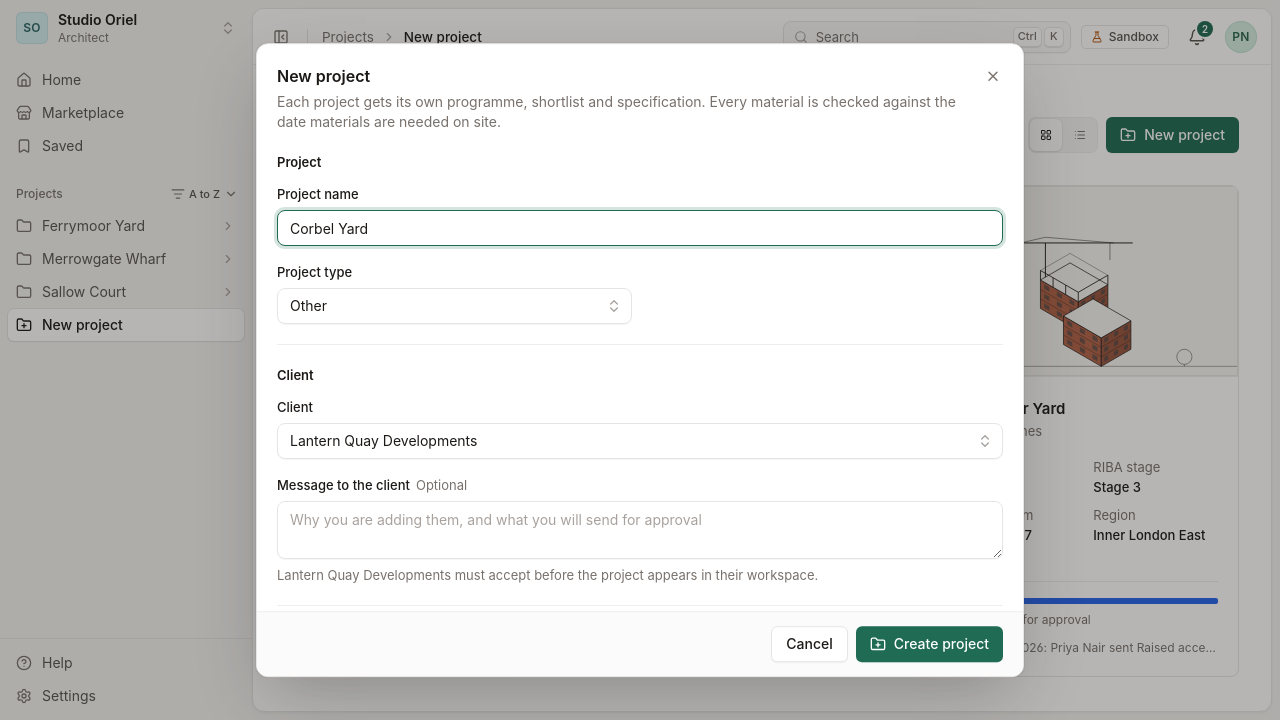
the new project dialog › creates a project that waits for the client, with the type text, message and requirements
Select "Other" in the dropdown labelled "Project type". click: [454, 306]
box: top-left (277, 288), bottom-right (632, 324)
(page scrolled)
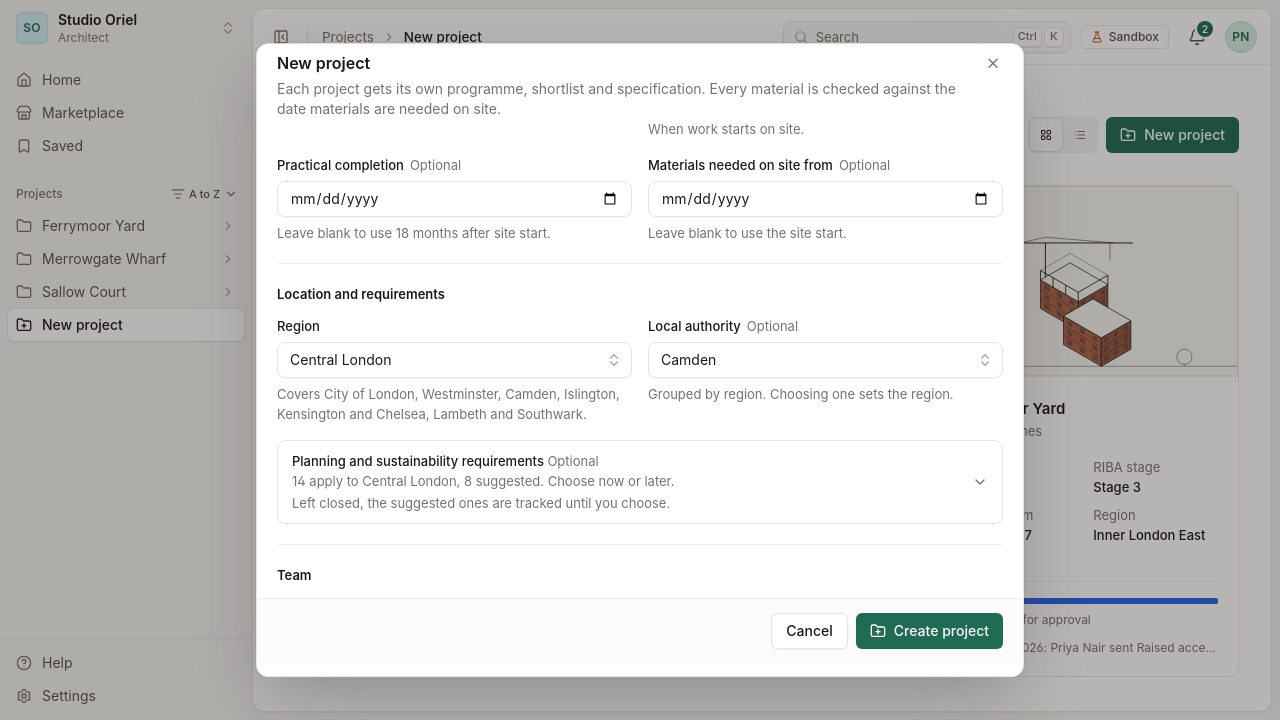
Select "Camden" in the 2nd dropdown. click: [826, 360]
box: top-left (648, 342), bottom-right (1003, 378)
(page scrolled)
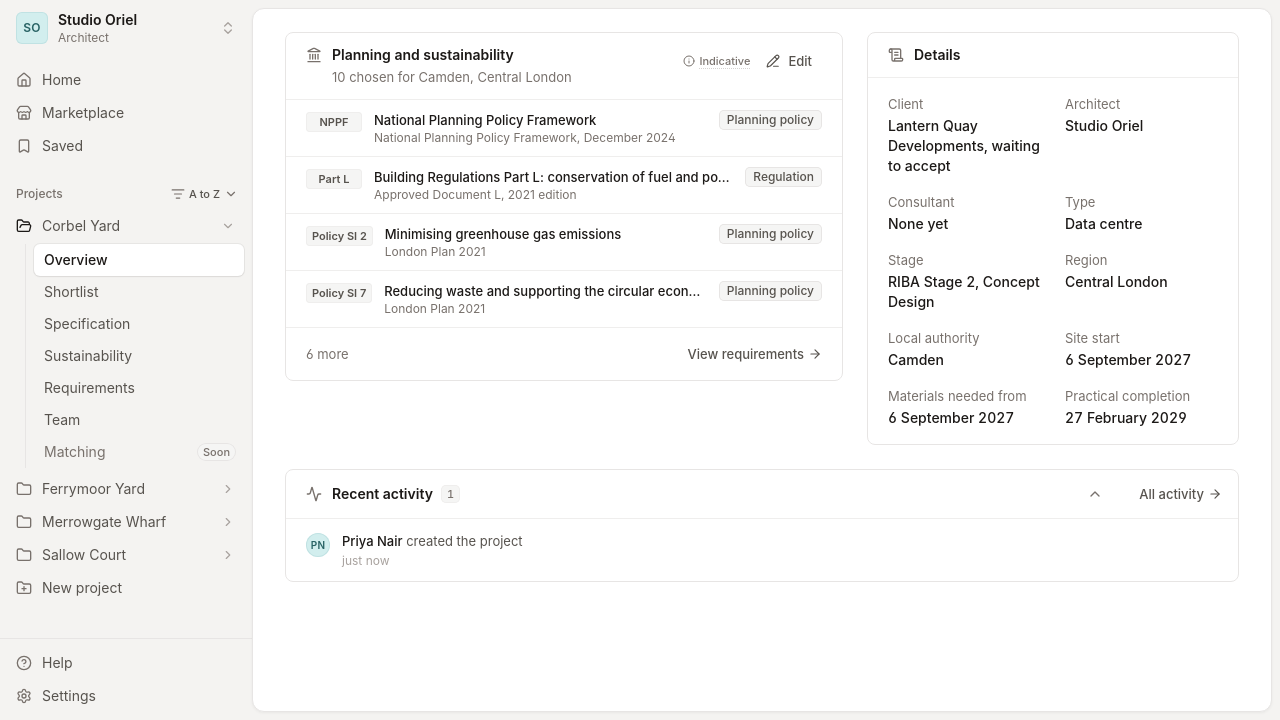
Check: the text "Data centre" is shown, box top-left (1065, 215), bottom-right (1142, 232)
Check: the text "Camden" is shown, box top-left (888, 351), bottom-right (944, 368)
